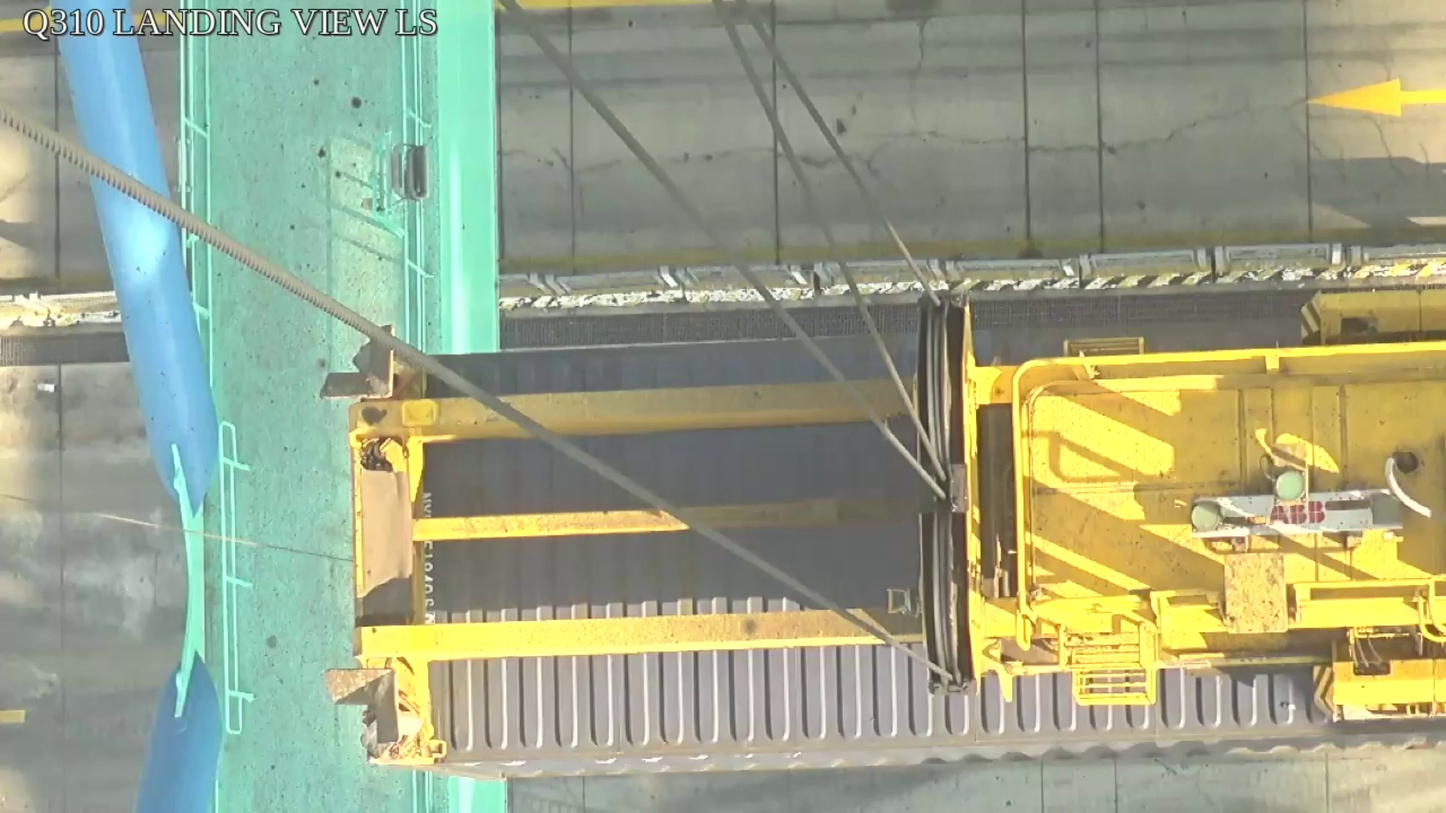aa: (912, 293, 981, 695)
